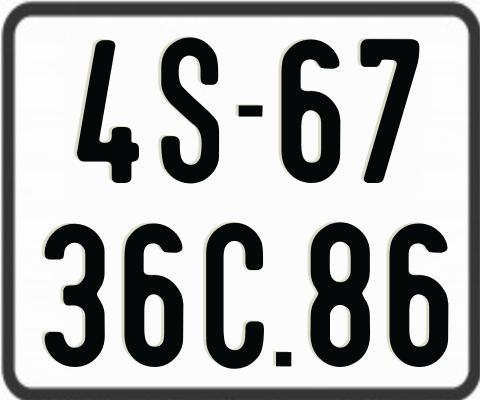3: (42, 223, 105, 371)
4: (75, 38, 141, 185)
6: (389, 221, 452, 368), (121, 220, 184, 366), (278, 38, 337, 186)
7: (358, 37, 418, 181)
8: (308, 221, 373, 366)
C: (205, 221, 266, 372)
S: (159, 37, 220, 187)
